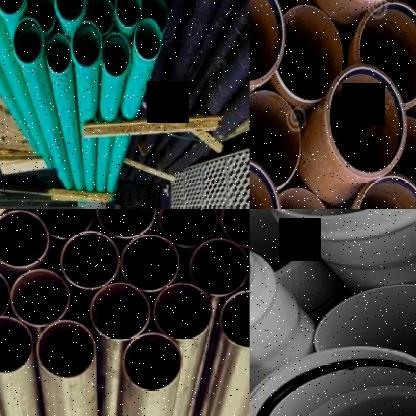pipe: (249, 345, 416, 415), (312, 282, 416, 367), (328, 64, 406, 176), (352, 0, 416, 108), (277, 5, 342, 101), (250, 90, 300, 188), (249, 208, 306, 279), (123, 332, 182, 392), (90, 282, 150, 341), (10, 269, 70, 327), (189, 238, 249, 296), (60, 231, 120, 289), (36, 320, 95, 378), (121, 234, 180, 292), (153, 283, 212, 340), (249, 0, 285, 86), (0, 210, 49, 267), (159, 208, 217, 248), (355, 172, 416, 208), (0, 316, 33, 373), (218, 290, 250, 348), (96, 208, 156, 238), (36, 208, 94, 238), (250, 157, 282, 208), (259, 208, 416, 218), (268, 187, 334, 208), (72, 21, 102, 66), (13, 18, 42, 64), (102, 32, 130, 77), (220, 208, 250, 248), (134, 18, 162, 60), (46, 34, 70, 74), (29, 0, 55, 33), (87, 0, 113, 33), (142, 0, 168, 32), (250, 0, 294, 16), (116, 0, 142, 27), (55, 0, 85, 21), (0, 0, 25, 15)
